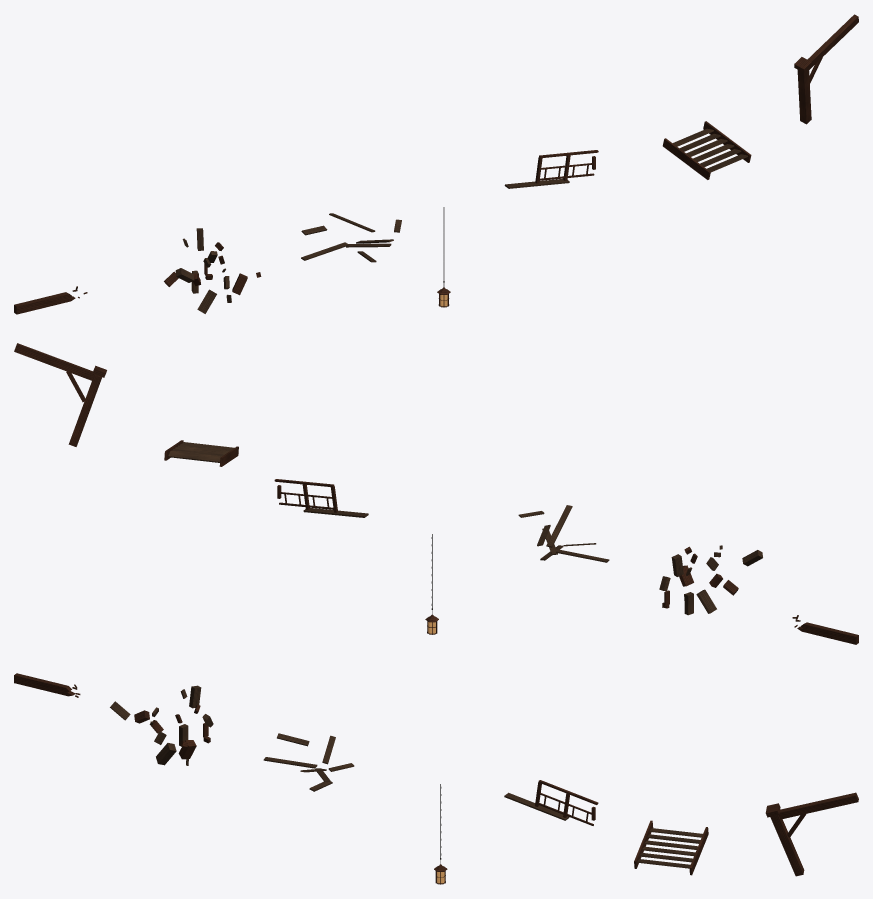
File: void_props.glb
The picture shows the model from 3 angles, top to bottom: view 1: azimuth 30°, elevation 25°; view 2: azimuth 150°, elevation 25°; view 3: azimuth 330°, elevation 25°; orthographic projection.
Visible parts, largest first — view 1: IC20_Stair_Fragment__Mesh, IC20_Debris_Small__Mesh, IC20_Suspended_Frame_Piece__Mesh, IC20_Railing_Fragment__Mesh, IC20_Floating_Planks__Mesh, IC20_Broken_Beam__Mesh; view 2: IC20_Debris_Small__Mesh, IC20_Suspended_Frame_Piece__Mesh, IC20_Stair_Fragment__Mesh, IC20_Railing_Fragment__Mesh, IC20_Floating_Planks__Mesh, IC20_Broken_Beam__Mesh; view 3: IC20_Stair_Fragment__Mesh, IC20_Debris_Small__Mesh, IC20_Suspended_Frame_Piece__Mesh, IC20_Railing_Fragment__Mesh, IC20_Floating_Planks__Mesh, IC20_Broken_Beam__Mesh.
Boxes of the visible parts, x1,y1,x2,y2 form: IC20_Stair_Fragment__Mesh: [662, 121, 751, 179]; IC20_Debris_Small__Mesh: [164, 228, 261, 313]; IC20_Suspended_Frame_Piece__Mesh: [794, 14, 858, 124]; IC20_Railing_Fragment__Mesh: [504, 150, 598, 188]; IC20_Floating_Planks__Mesh: [301, 213, 401, 262]; IC20_Broken_Beam__Mesh: [14, 286, 87, 314]; IC20_Debris_Small__Mesh: [659, 545, 762, 615]; IC20_Suspended_Frame_Piece__Mesh: [14, 343, 106, 446]; IC20_Stair_Fragment__Mesh: [164, 440, 238, 466]; IC20_Railing_Fragment__Mesh: [274, 479, 368, 517]; IC20_Floating_Planks__Mesh: [518, 505, 609, 562]; IC20_Broken_Beam__Mesh: [792, 615, 858, 644]; IC20_Stair_Fragment__Mesh: [634, 820, 708, 875]; IC20_Debris_Small__Mesh: [110, 685, 213, 765]; IC20_Suspended_Frame_Piece__Mesh: [765, 792, 858, 876]; IC20_Railing_Fragment__Mesh: [504, 780, 598, 825]; IC20_Floating_Planks__Mesh: [263, 733, 354, 791]; IC20_Broken_Beam__Mesh: [14, 673, 80, 697].
Size of the model in its own units: 35.67 by 7.73 by 3.38.
5 materials, 3 textured.
